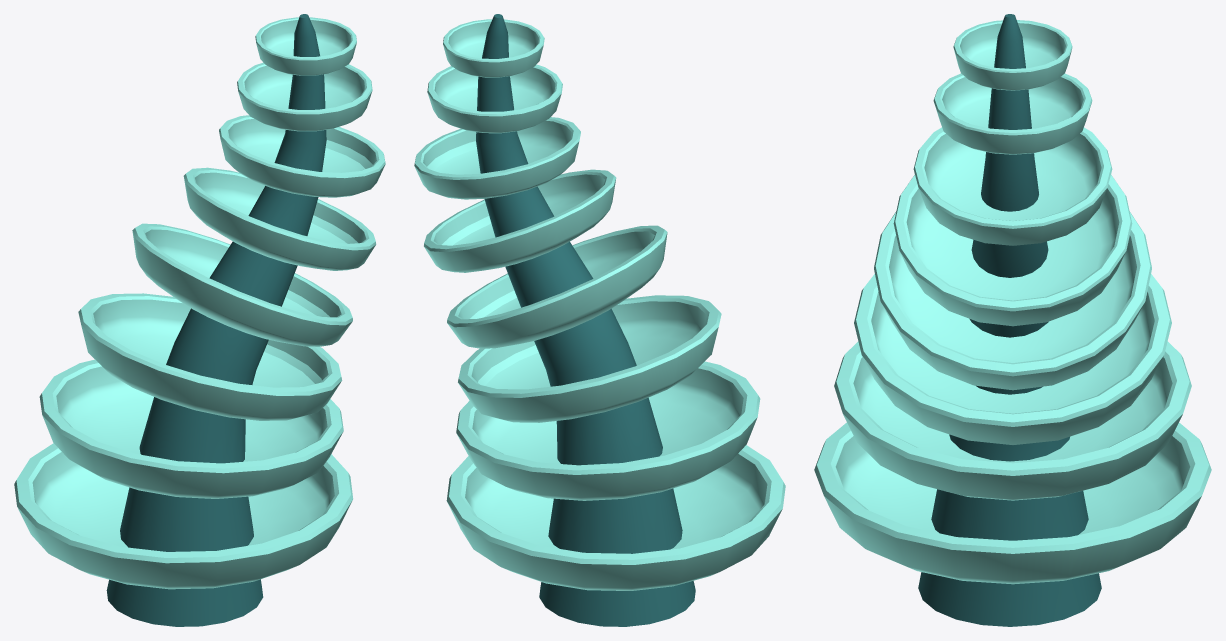
File: Tree02.fbx
3 renders of one model, left to right at view 1: azimuth 30°, elevation 25°; view 2: azimuth 150°, elevation 25°; view 3: azimuth 270°, elevation 25°, orthographic. The views are drawn at different scales.
Visible parts, largest first — view 1: pCylinder53; view 2: pCylinder53; view 3: pCylinder53.
Part boxes in pixels (x1,y1,x2,y2): pCylinder53: (14,14,385,626); pCylinder53: (414,14,785,626); pCylinder53: (814,14,1211,626).
Size of the model in its own units: 161 by 249 by 140.
